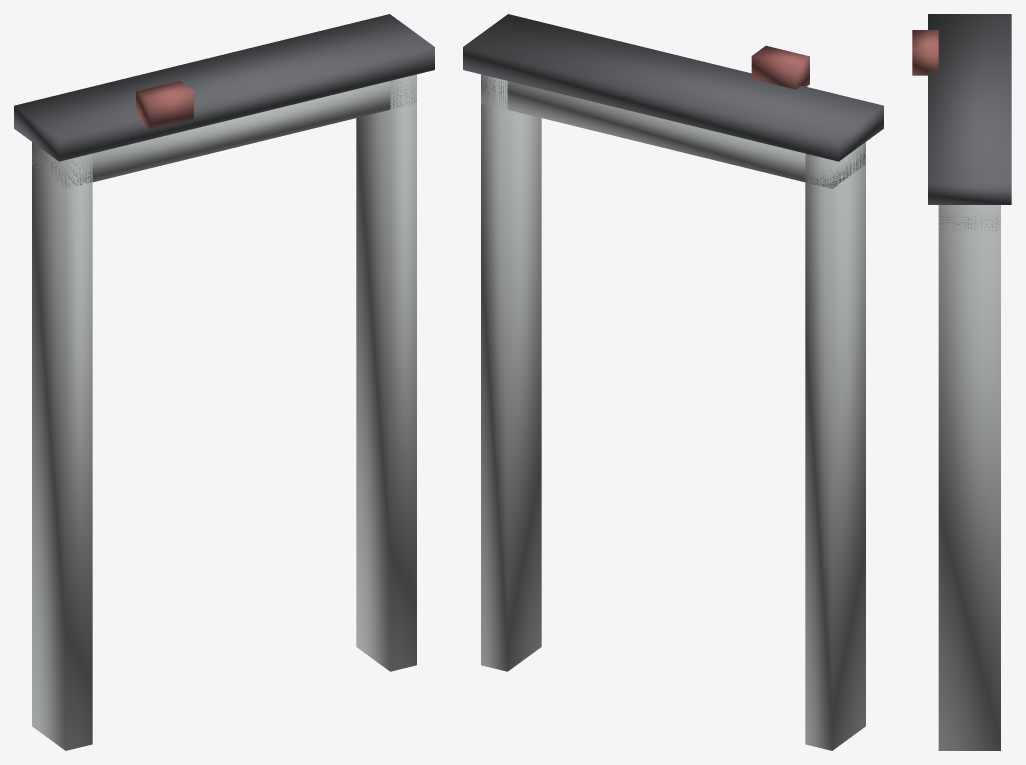
Rendered from doorway_fire_rated_w122_h220_d24.glb.
3 views of the same model, side by side, from view 1: azimuth 30°, elevation 25°; view 2: azimuth 150°, elevation 25°; view 3: azimuth 270°, elevation 25° (orthographic). The views are drawn at different scales.
Parts seen in each view (by area): view 1: world; view 2: world; view 3: world.
Part boxes in pixels (left/top/right/bottom): world: left=14, top=14, right=434, bottom=750; world: left=463, top=14, right=883, bottom=750; world: left=912, top=14, right=1011, bottom=750.
Bounding box in the file's own units: 1.54 × 2.51 × 0.38.
